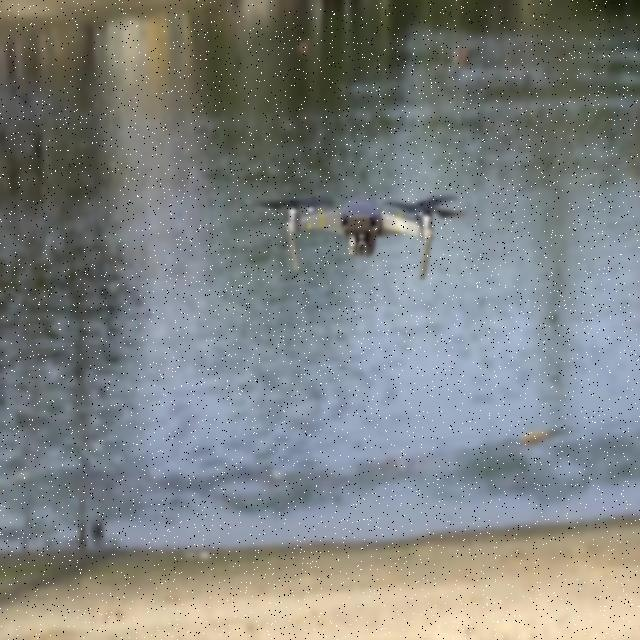UAV: (243, 193, 467, 282)
